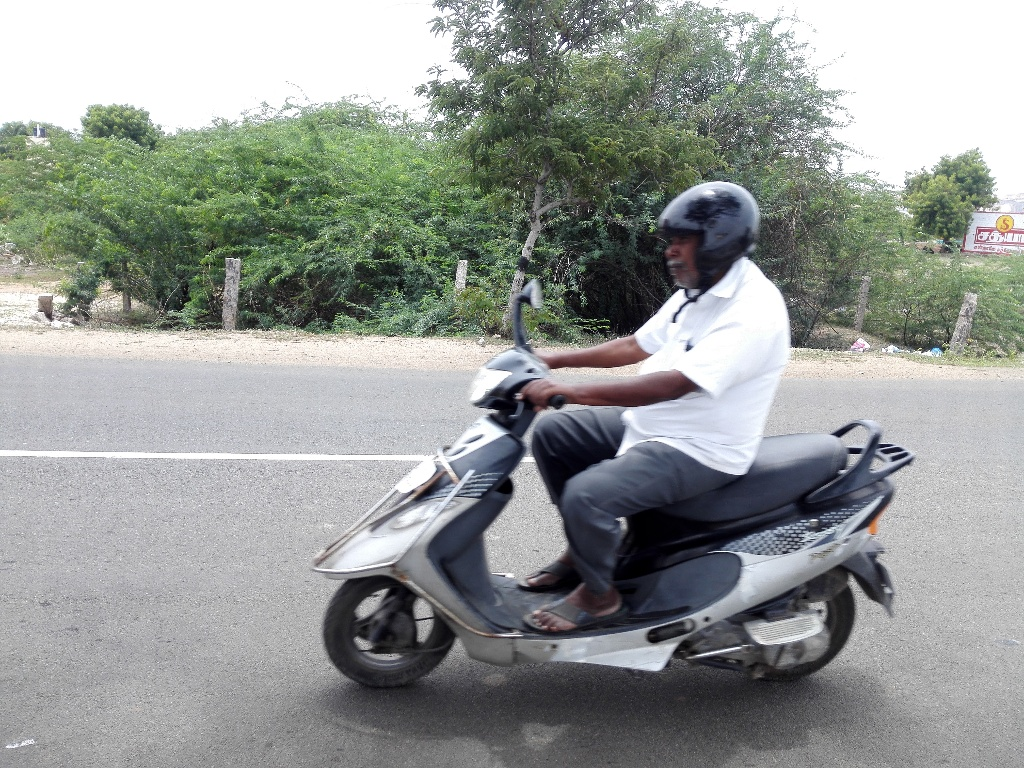biker: (288, 135, 959, 723)
helmet: (640, 168, 778, 297)
